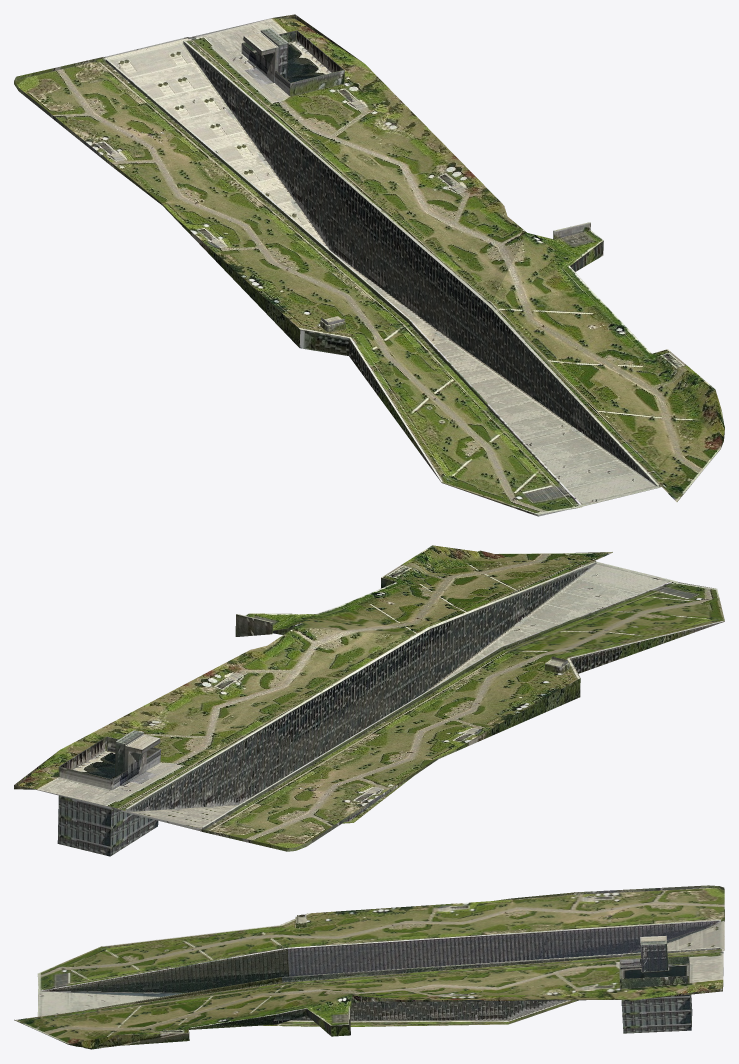
File: ecc0매시.fbx
The picture shows the model from 3 angles, top to bottom: view 1: azimuth 30°, elevation 25°; view 2: azimuth 150°, elevation 25°; view 3: azimuth 270°, elevation 25°; orthographic projection. The views are drawn at different scales.
Visible parts, largest first — view 1: MeshChunk; view 2: MeshChunk; view 3: MeshChunk.
Part boxes in pixels (x1=…): MeshChunk: x1=14, y1=14, x2=724, y2=516; MeshChunk: x1=14, y1=545, x2=724, y2=856; MeshChunk: x1=14, y1=885, x2=724, y2=1049.
Size of the model in its own units: 14.88 by 39.65 by 6.17.
Materials: 1 (1 with a texture image).
